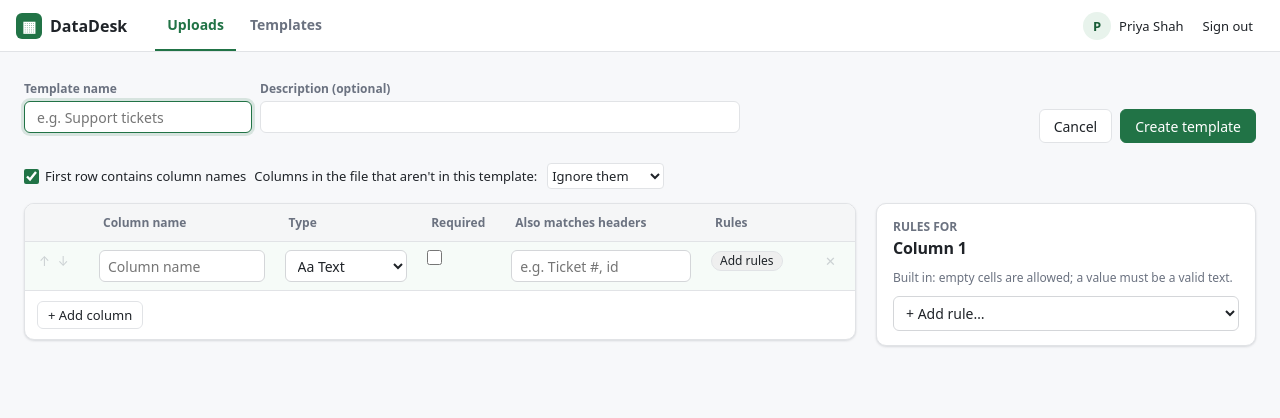
Scenario: TemplateEditorPage: new template › a failure without field details is shown as a message
In the field labelled "Template name": (138, 117) x1=24 y1=101 x2=252 y2=133, type "T"
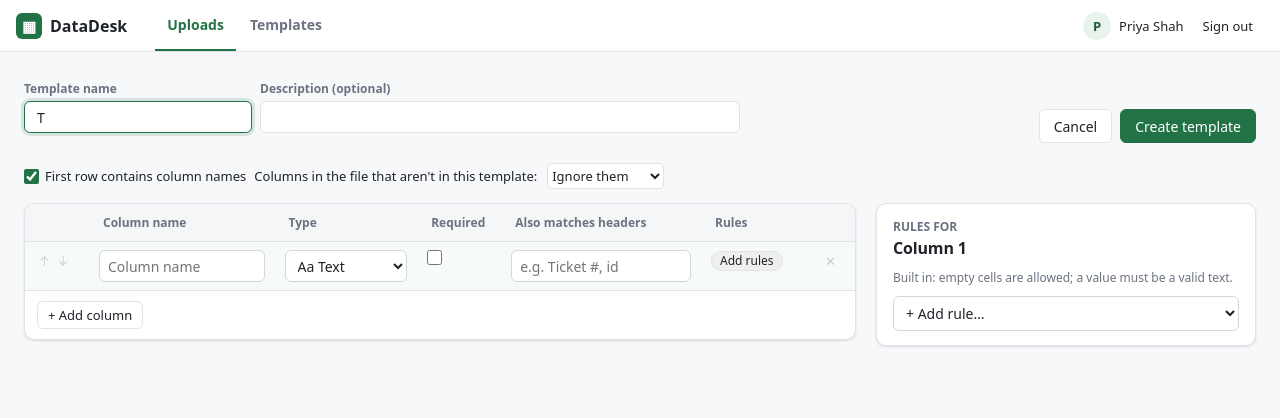
In the field named "Column 1 name": (182, 266) x1=99 y1=250 x2=264 y2=282, type "A"
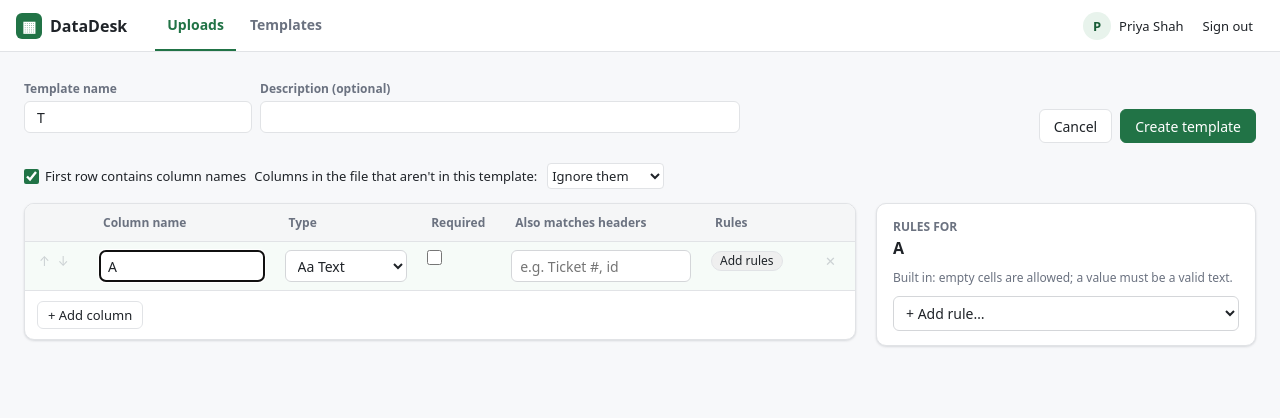
Click the button "Create template": click(1188, 126) x1=1120 y1=109 x2=1256 y2=143
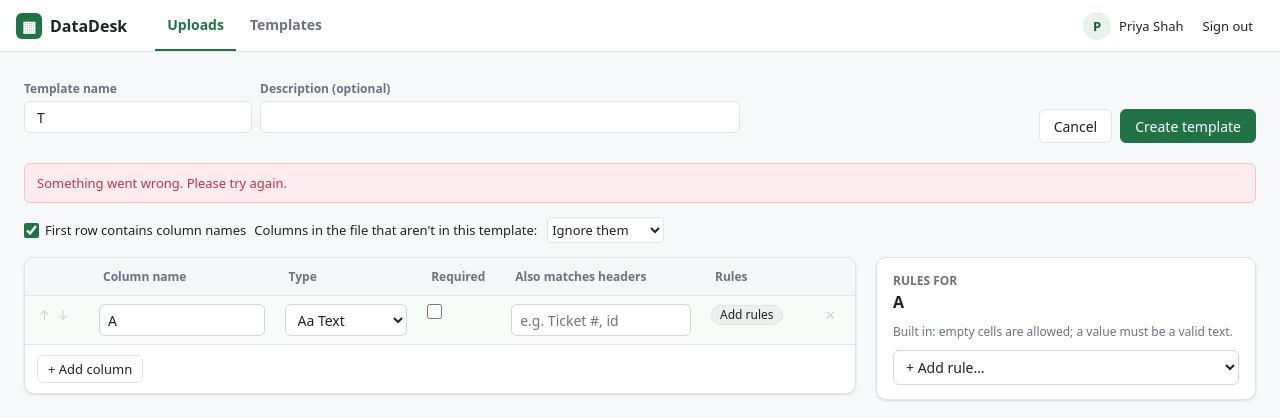
Check: the text "Something went wrong. Please try again." is shown, box x1=24 y1=163 x2=1256 y2=203
